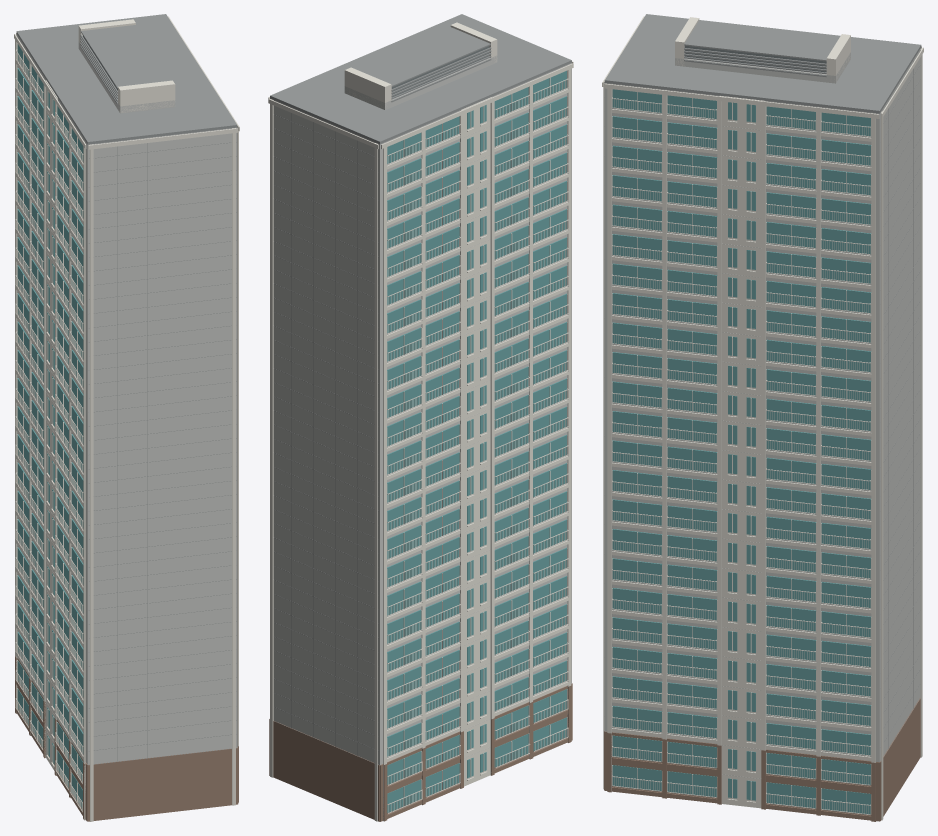
Rendered from bespoke-jamsil-els-121.glb.
The picture shows the model from 3 angles, left to right: view 1: azimuth 30°, elevation 25°; view 2: azimuth 150°, elevation 25°; view 3: azimuth 270°, elevation 25°; orthographic projection. The views are drawn at different scales.
Parts seen in each view (by area): view 1: Els121_editable_Els121_light_grey_solid_wall, Els121_editable_Els121_turquoise_balcony_glazing, Els121_editable_Els121_modest_grey_flat_roof_caps, Els121_white_exact_chunk_0, Els121_white_exact_chunk_1, Els121_editable_Els121_muted_ground_wall, Els121_white_exact_chunk_3, Els121_white_exact_chunk_2; view 2: Els121_editable_Els121_light_grey_solid_wall, Els121_editable_Els121_turquoise_balcony_glazing, Els121_white_exact_chunk_0, Els121_white_exact_chunk_1, Els121_editable_Els121_modest_grey_flat_roof_caps, Els121_editable_Els121_muted_ground_wall, Els121_white_exact_chunk_3, Els121_editable_Els121_narrow_charcoal_service_strips; view 3: Els121_editable_Els121_turquoise_balcony_glazing, Els121_editable_Els121_light_grey_solid_wall, Els121_white_exact_chunk_2, Els121_white_exact_chunk_1, Els121_editable_Els121_modest_grey_flat_roof_caps, Els121_white_exact_chunk_3, Els121_editable_Els121_muted_ground_wall, Els121_white_exact_chunk_0, Els121_editable_Els121_narrow_charcoal_service_strips.
Boxes of the visible parts, x1,y1,x2,y2 form: Els121_editable_Els121_light_grey_solid_wall: (16, 34, 237, 764); Els121_editable_Els121_turquoise_balcony_glazing: (17, 44, 83, 809); Els121_editable_Els121_modest_grey_flat_roof_caps: (16, 14, 237, 764); Els121_white_exact_chunk_0: (15, 32, 68, 789); Els121_white_exact_chunk_1: (14, 34, 237, 821); Els121_editable_Els121_muted_ground_wall: (15, 656, 238, 821); Els121_white_exact_chunk_3: (78, 16, 239, 131); Els121_white_exact_chunk_2: (208, 80, 238, 746); Els121_editable_Els121_light_grey_solid_wall: (270, 55, 571, 764); Els121_editable_Els121_turquoise_balcony_glazing: (387, 70, 566, 812); Els121_white_exact_chunk_0: (268, 97, 530, 821); Els121_white_exact_chunk_1: (381, 61, 573, 775); Els121_editable_Els121_modest_grey_flat_roof_caps: (270, 14, 571, 762); Els121_editable_Els121_muted_ground_wall: (269, 683, 572, 821); Els121_white_exact_chunk_3: (268, 22, 497, 108); Els121_editable_Els121_narrow_charcoal_service_strips: (391, 46, 489, 97); Els121_editable_Els121_turquoise_balcony_glazing: (612, 89, 871, 814); Els121_editable_Els121_light_grey_solid_wall: (604, 48, 921, 778); Els121_white_exact_chunk_2: (607, 84, 871, 815); Els121_white_exact_chunk_1: (602, 16, 921, 808); Els121_editable_Els121_modest_grey_flat_roof_caps: (604, 14, 921, 761); Els121_white_exact_chunk_3: (604, 17, 879, 762); Els121_editable_Els121_muted_ground_wall: (604, 698, 920, 821); Els121_white_exact_chunk_0: (881, 47, 923, 820); Els121_editable_Els121_narrow_charcoal_service_strips: (684, 45, 826, 72).
Bounding box in the file's own units: 19.75 × 68.2 × 27.07.
